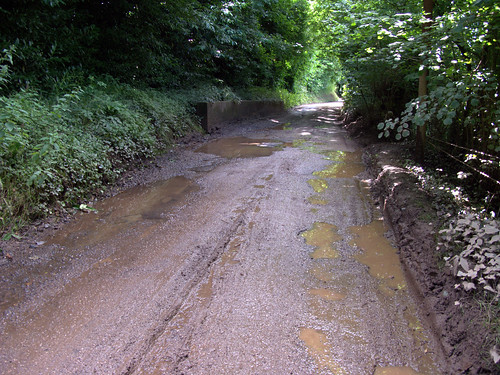dirt: (1, 99, 407, 375)
vegetation: (1, 1, 309, 198), (333, 1, 499, 163)
